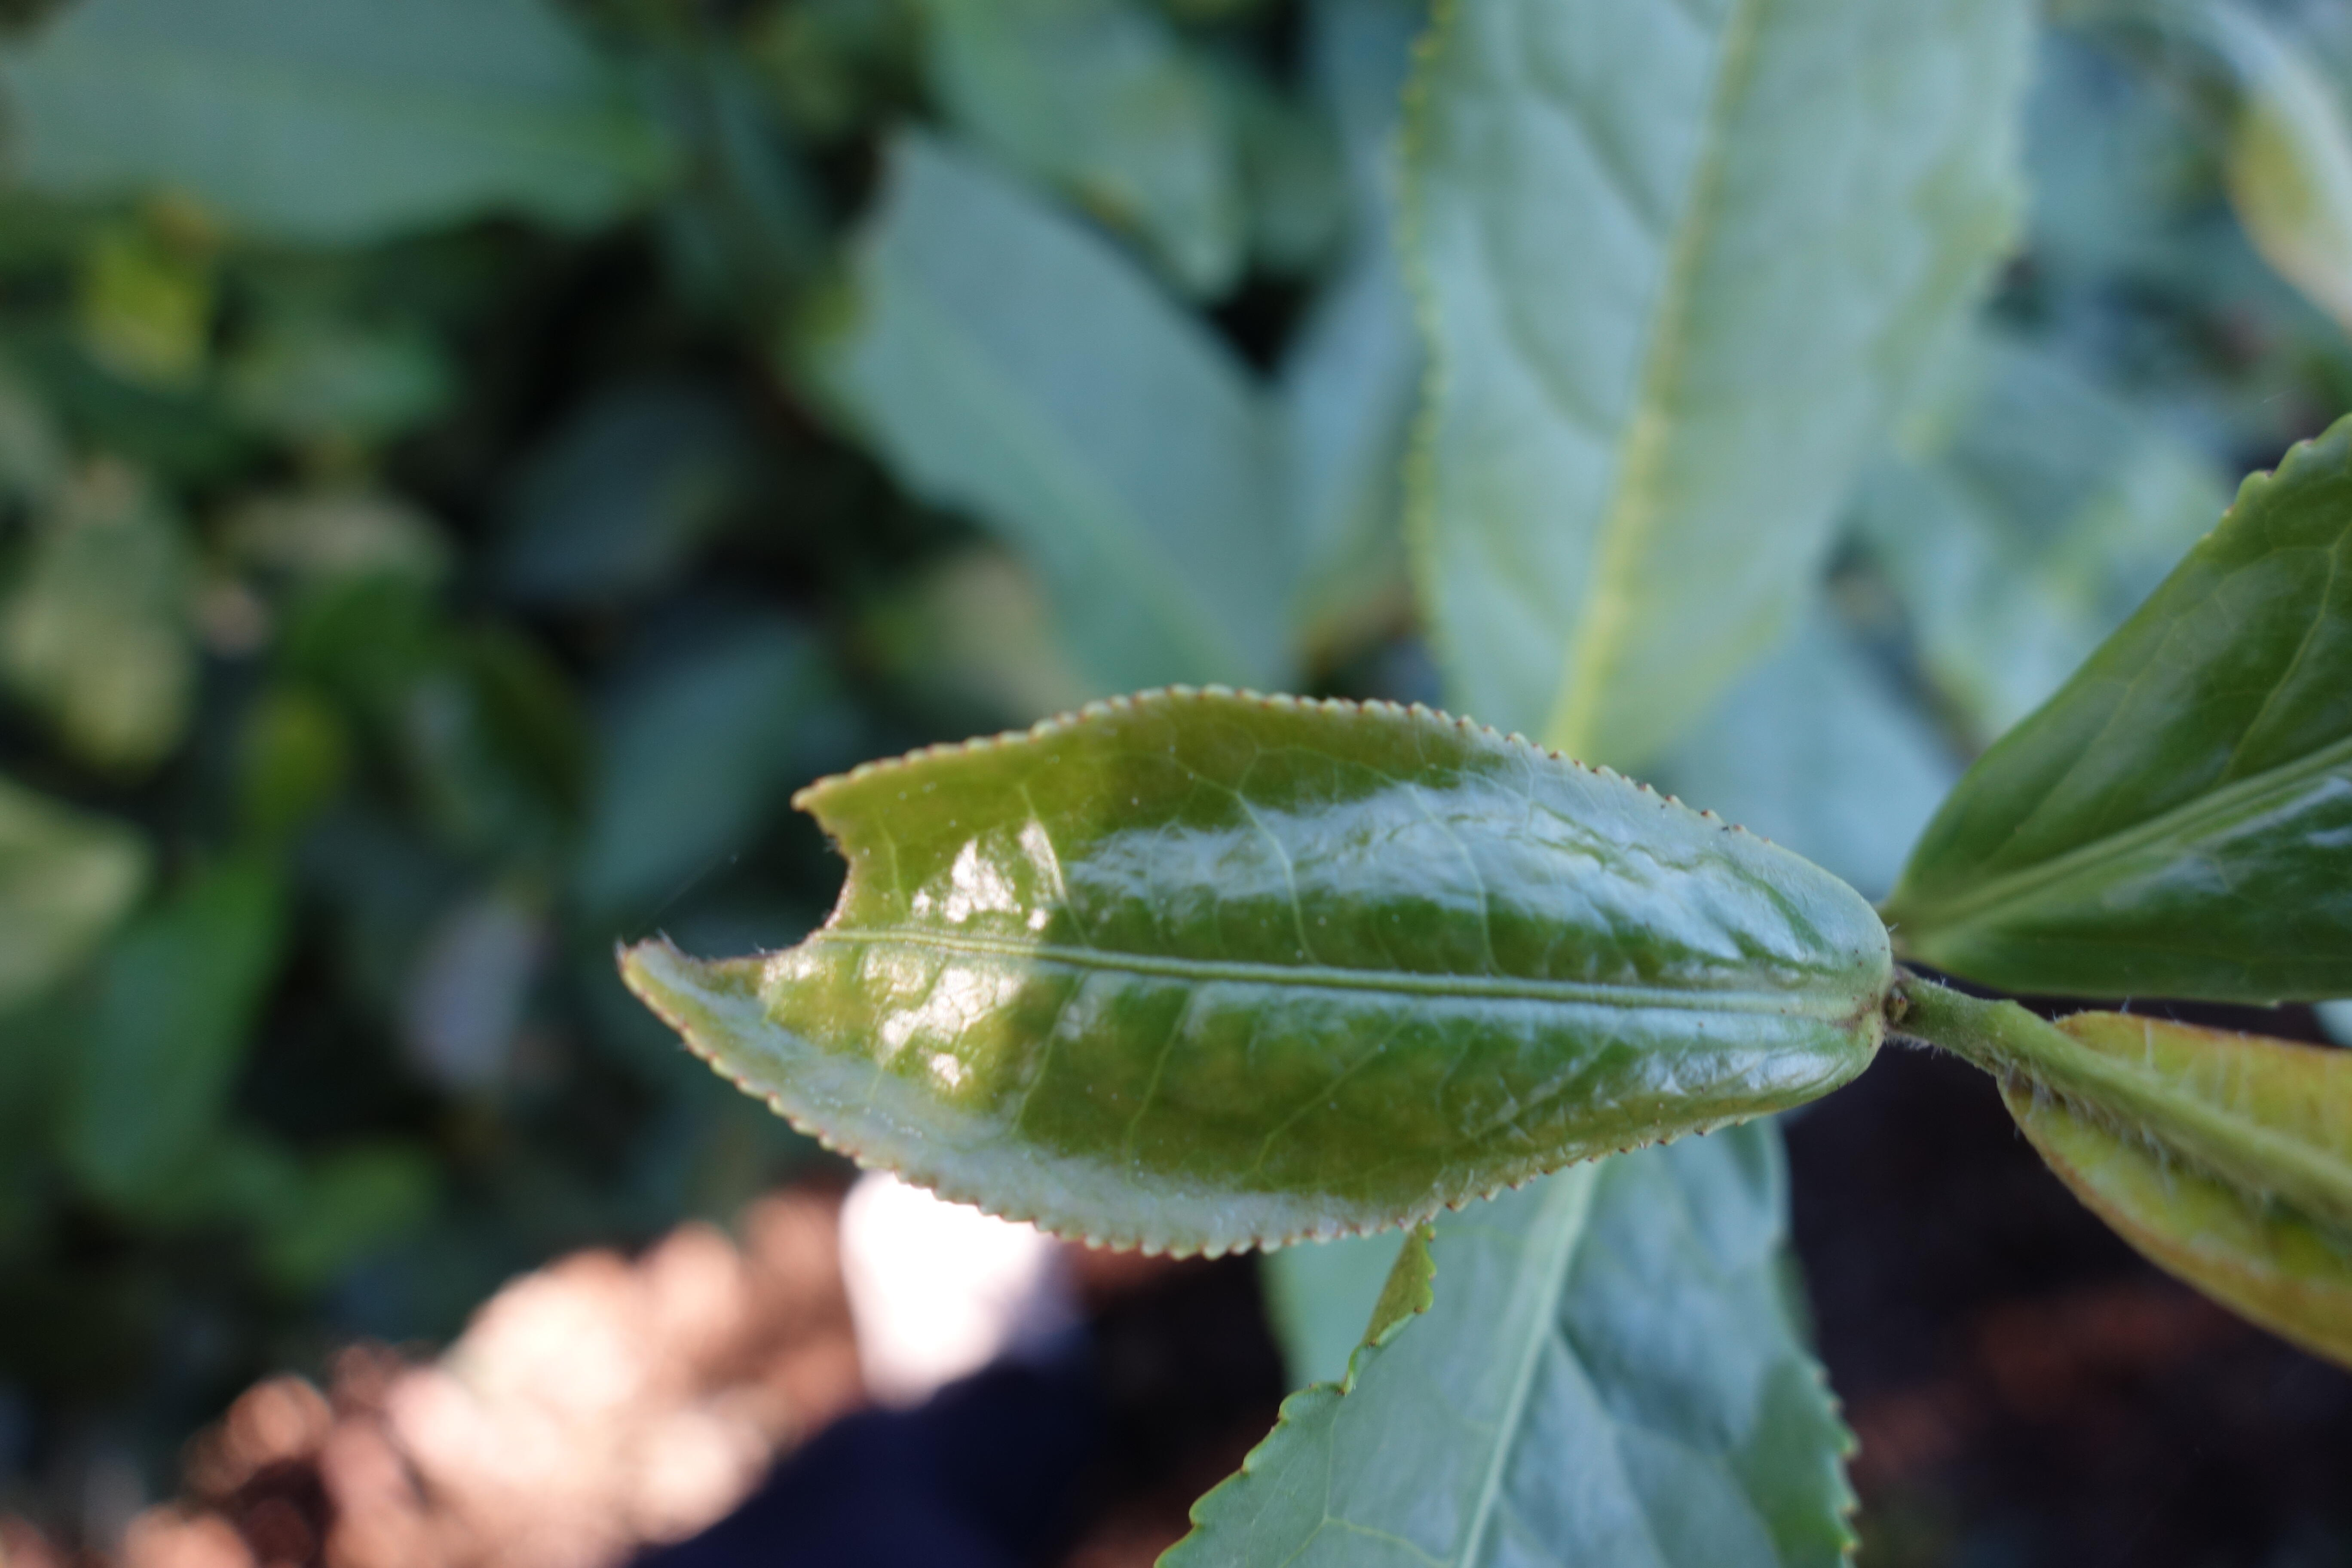chihuo_low: (611, 682, 1913, 1262)
